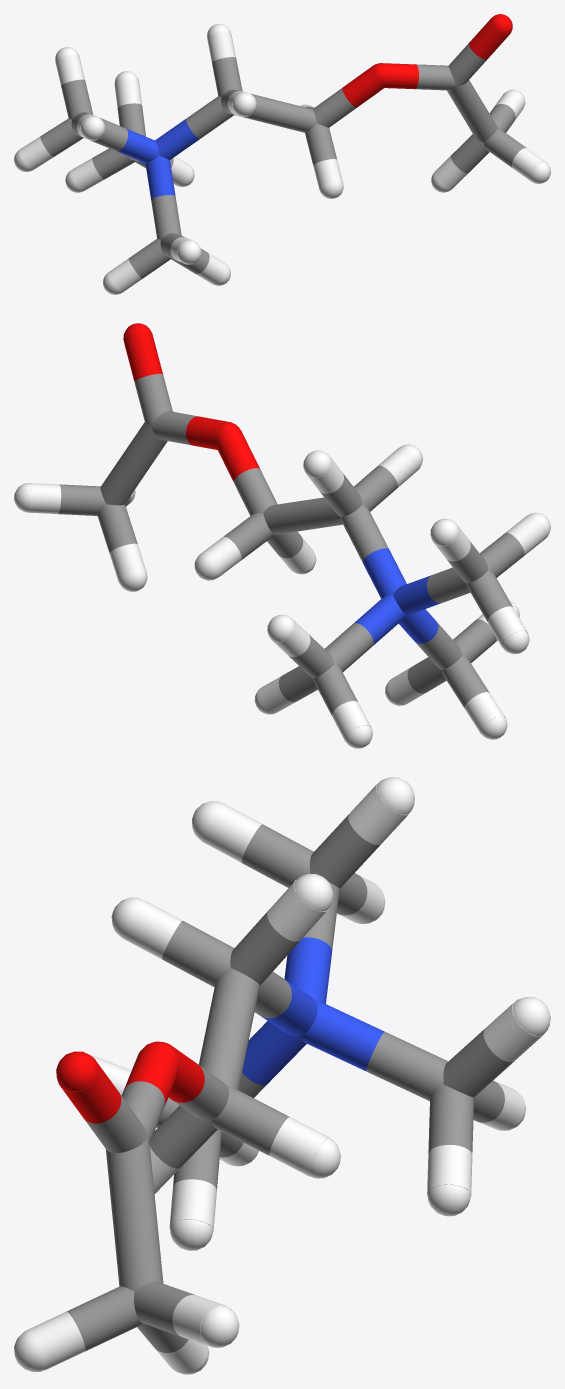
File: acetylcholine.glb
The picture shows the model from 3 angles, top to bottom: view 1: azimuth 30°, elevation 25°; view 2: azimuth 150°, elevation 25°; view 3: azimuth 270°, elevation 25°; orthographic projection. The views are drawn at different scales.
Parts seen in each view (by area): view 1: primitive_color (×41); view 2: primitive_color (×48); view 3: primitive_color (×51).
Boxes of the visible parts, x1,y1,x2,y2 form: primitive_color (×41): (19, 19, 550, 292); primitive_color (×48): (28, 333, 546, 741); primitive_color (×51): (14, 777, 550, 1372).
Bounding box in the file's own units: 8.69 × 4.12 × 4.87.
